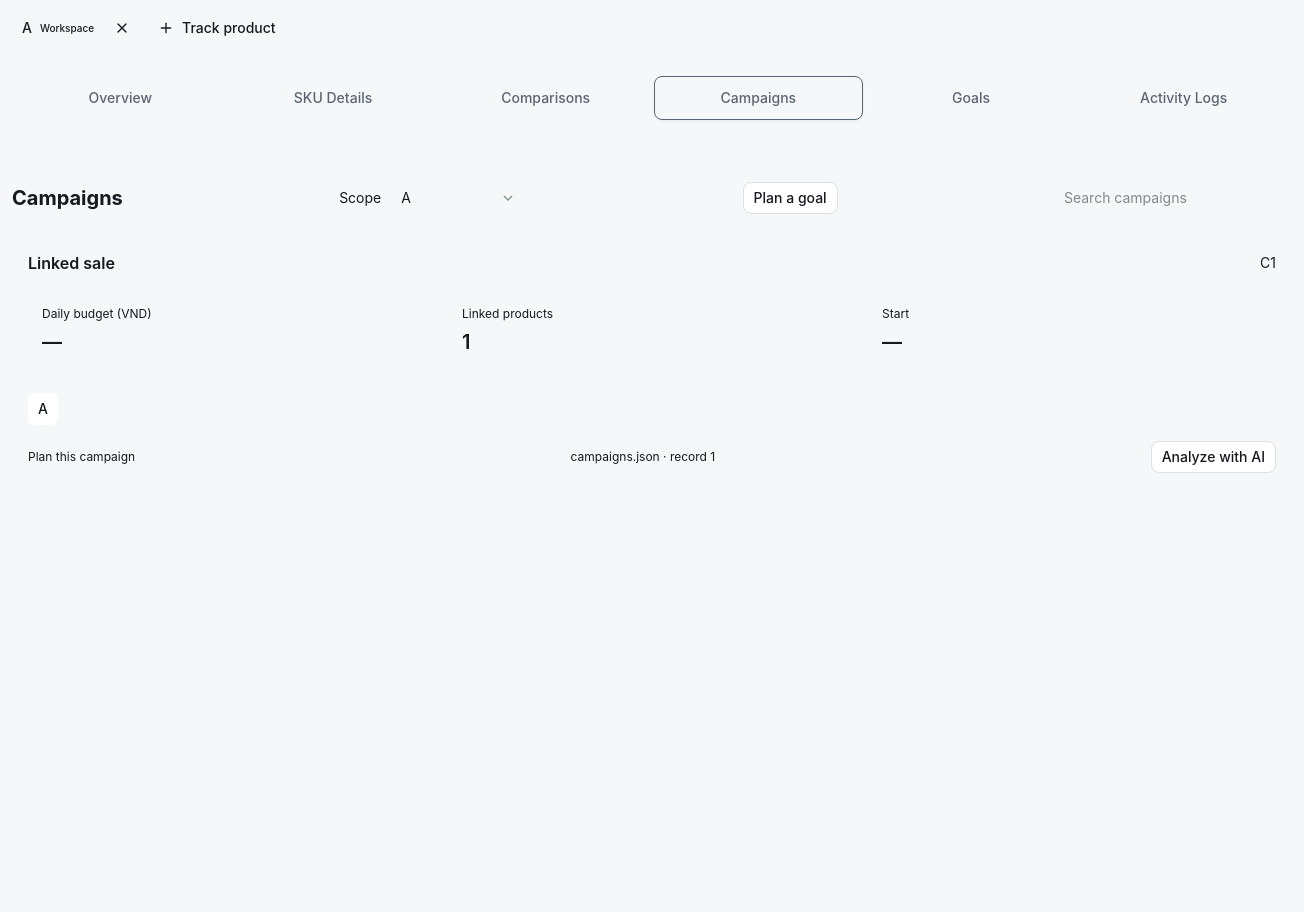
switches between the active product's campaigns and all campaigns
This screenshot has width=1304, height=912.
Check: the heading "Linked sale" is shown, box 28,252 -> 115,275
Check: the heading "Other sale" is not shown
Select "All campaigns" in the dropdown named "Campaign scope": (459, 198) 391,176 -> 526,220
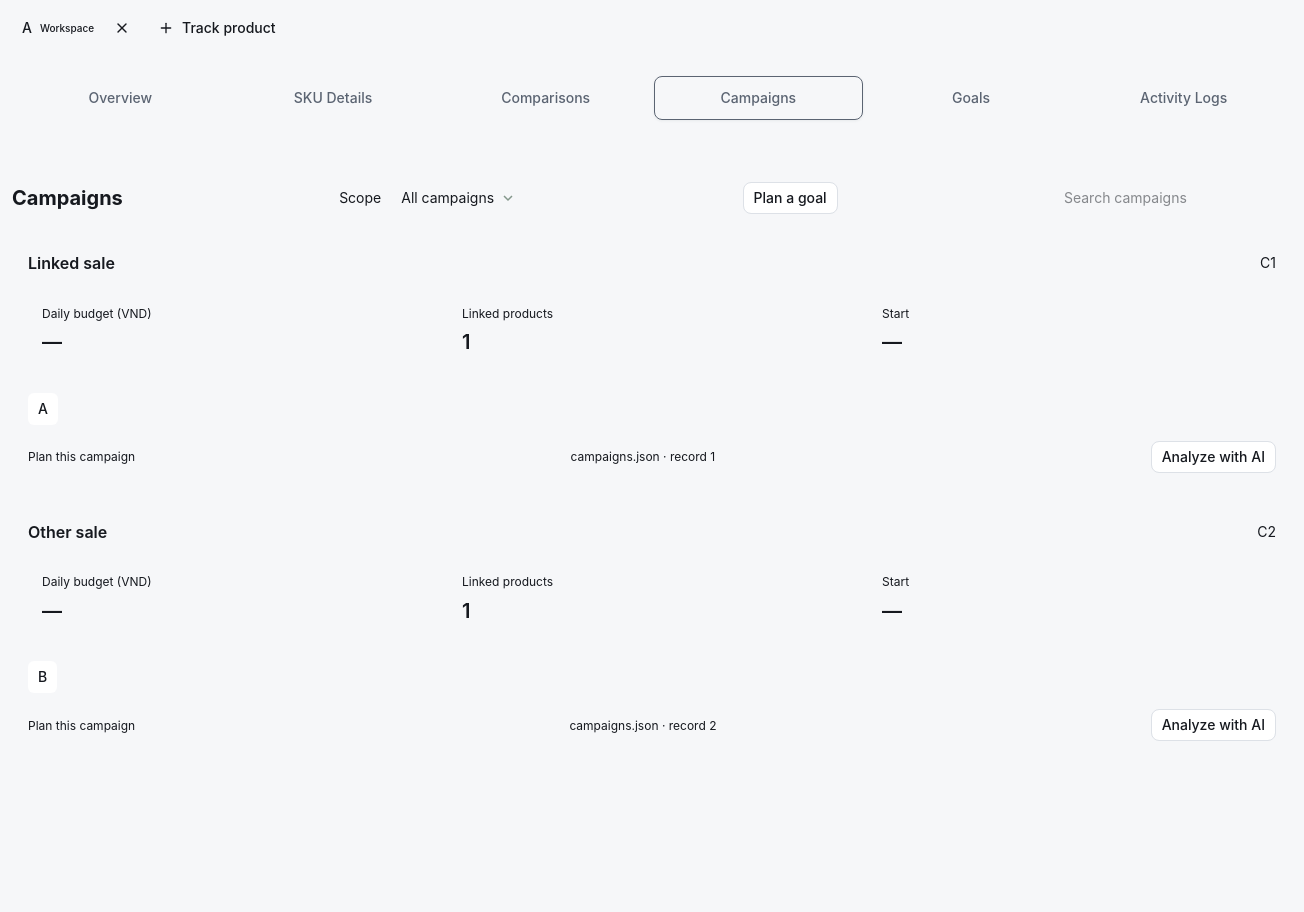
Check: the heading "Other sale" is shown, box 28,520 -> 107,543
In the field labelled "Search campaigns": (1173, 198) 1054,178 -> 1292,218, type "missing"
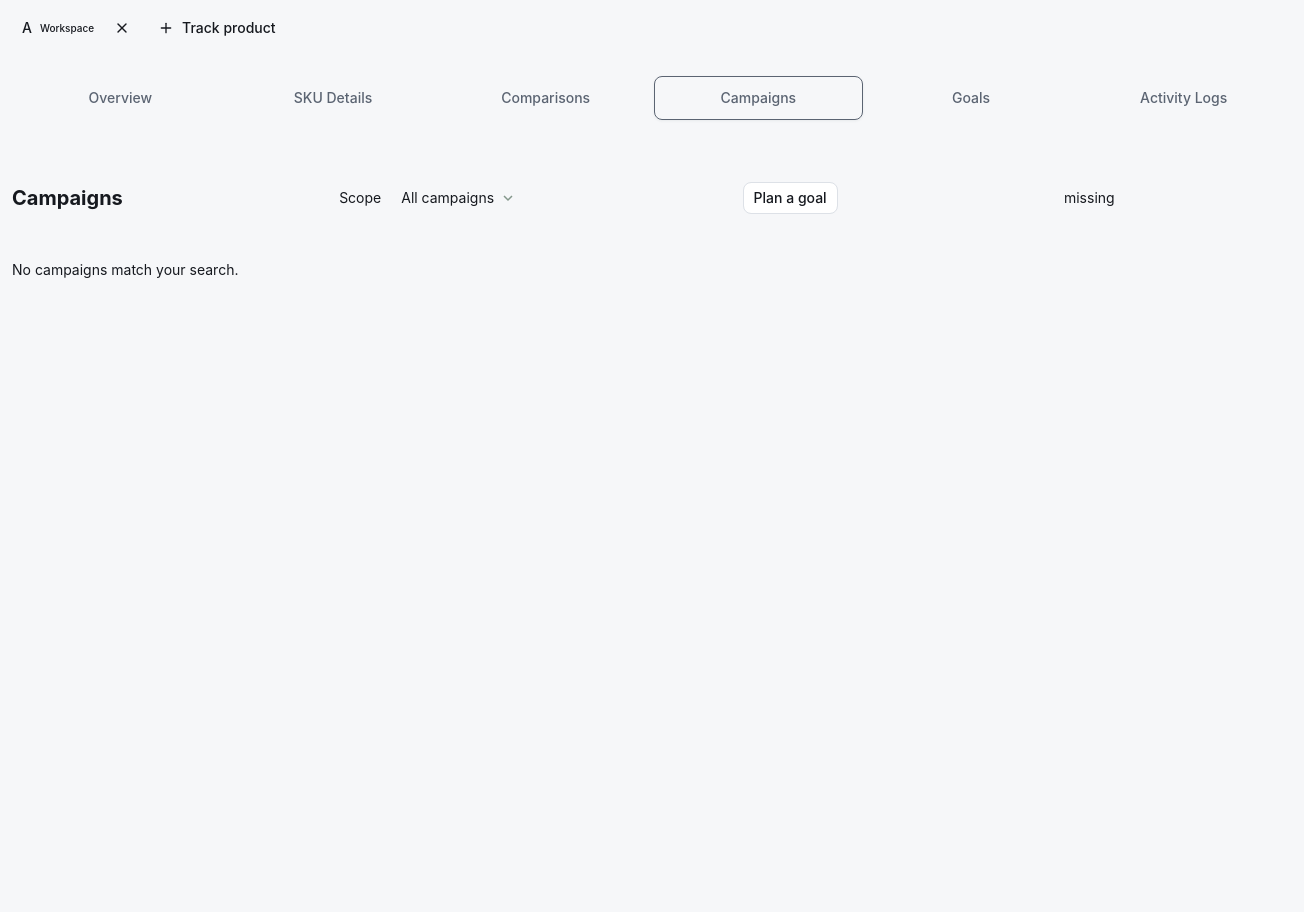
Check: the text "No campaigns match your search." is shown, box 12,261 -> 238,278
